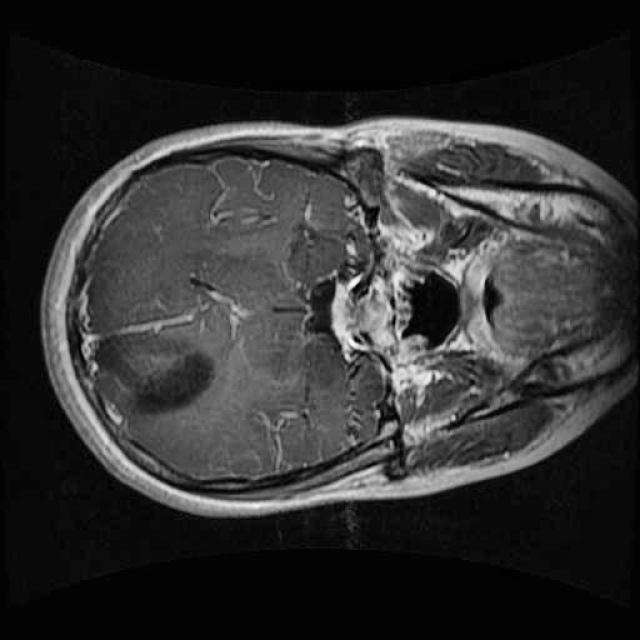Non-Tumor: (79, 316, 229, 426)
